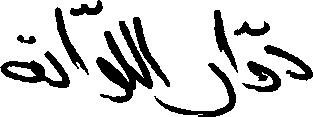X: (137, 12, 168, 114), (97, 0, 126, 107), (248, 16, 278, 96), (0, 30, 41, 87), (45, 2, 67, 92), (209, 5, 223, 116), (280, 44, 312, 90), (69, 0, 84, 88), (225, 25, 235, 116), (132, 12, 135, 100), (128, 24, 130, 105)
